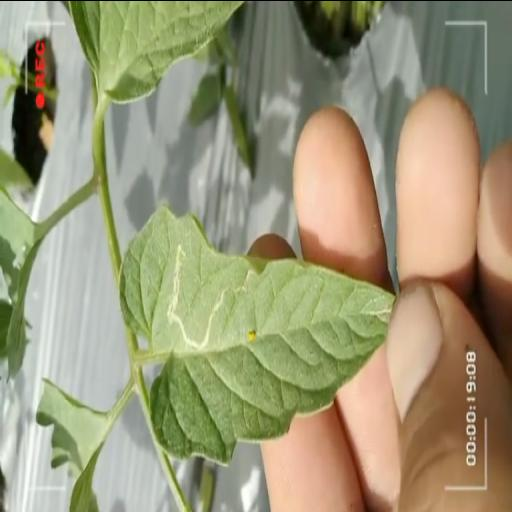Leaf Miner: (118, 202, 396, 466)
